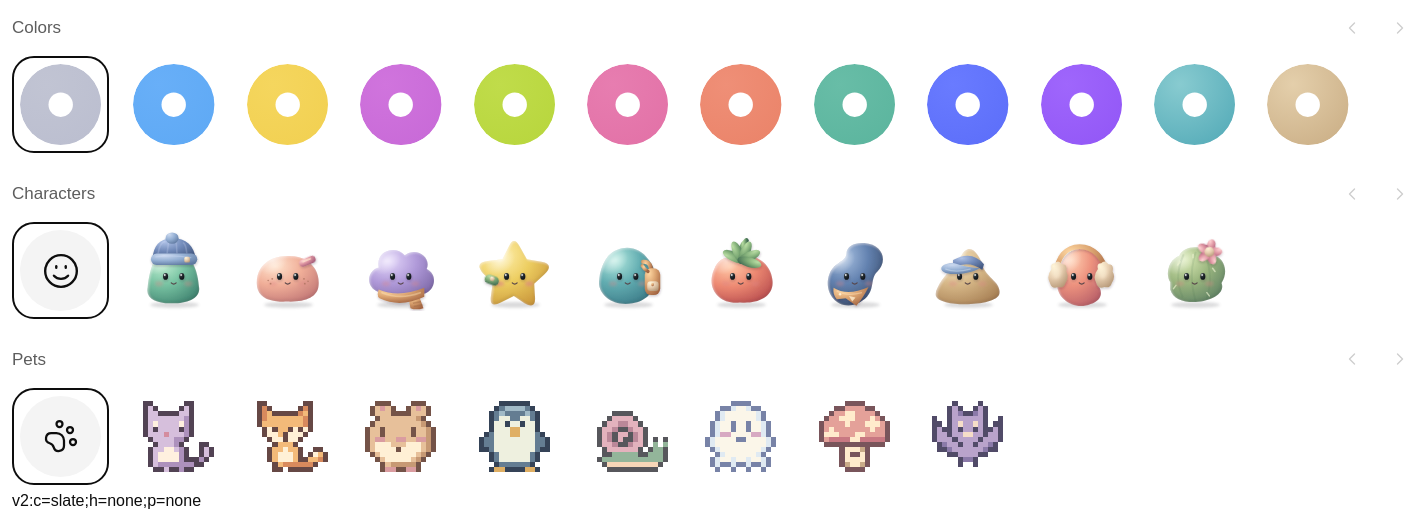
Test: provides named radio groups, one tab stop per row, and independent choices
The width and height of the screenshot is (1420, 526).
What coordinates should you click on to do the following:
click the radio button named "Color: Jade"
I would click on:
 (854, 105)
Its box is [806,56,903,154].
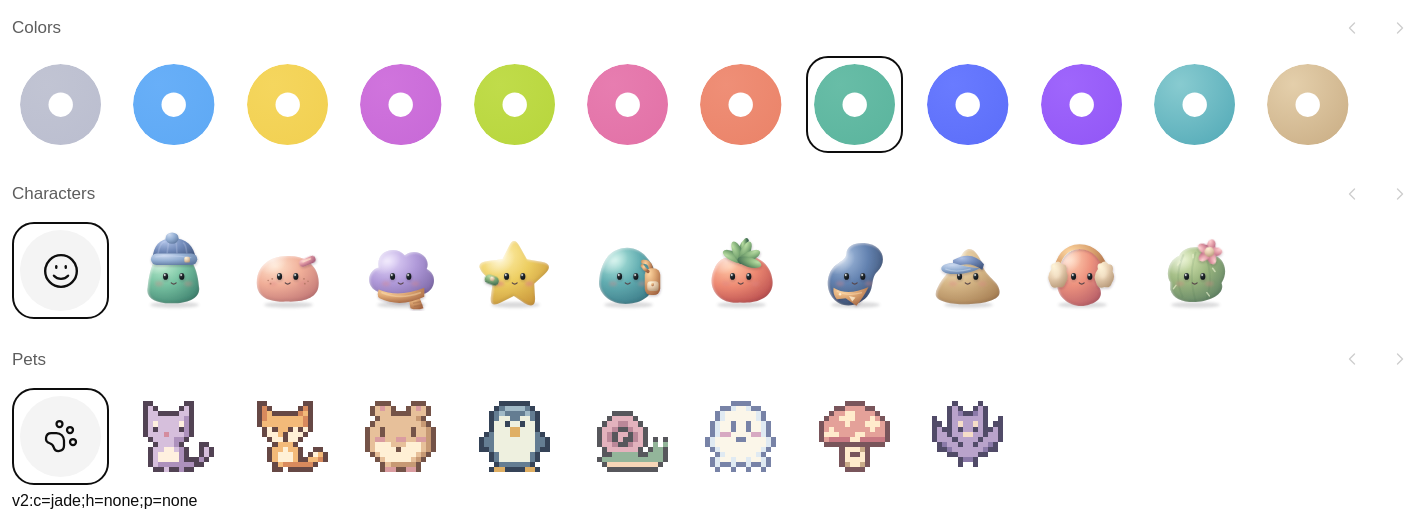
What coordinates should you click on to do the following:
click the radio button named "Character: Mint gumdrop"
I would click on:
 (174, 270)
Its box is [125,222,223,319].
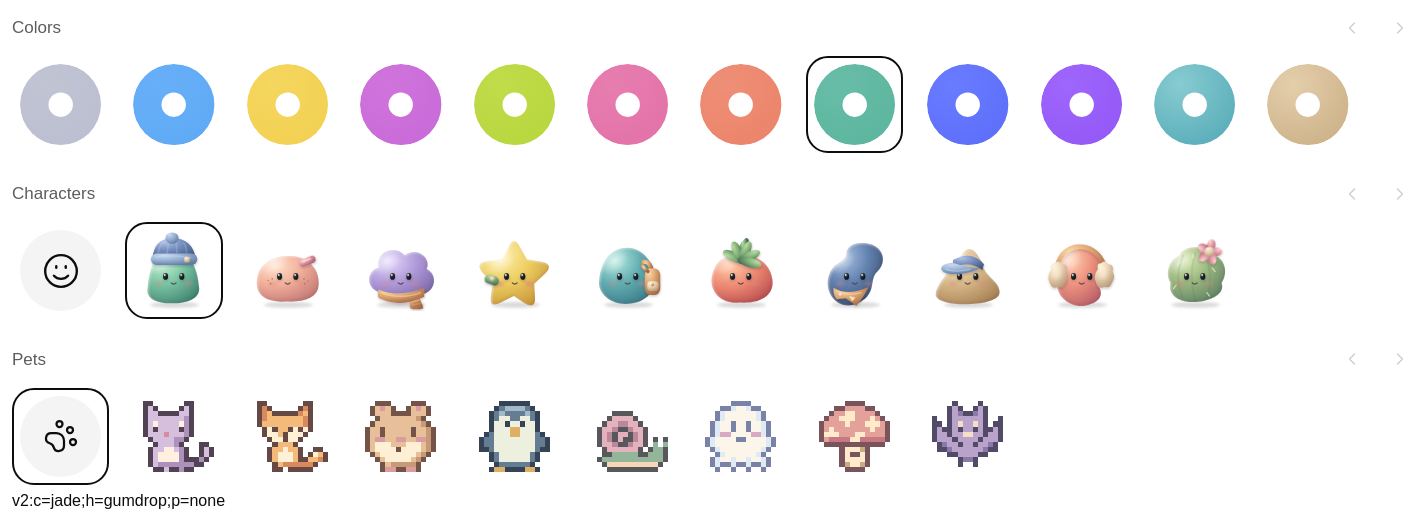
What coordinates should you click on to do the following:
click the radio button named "Pet: Fox"
I would click on:
 (288, 436)
Its box is [239,388,336,485].
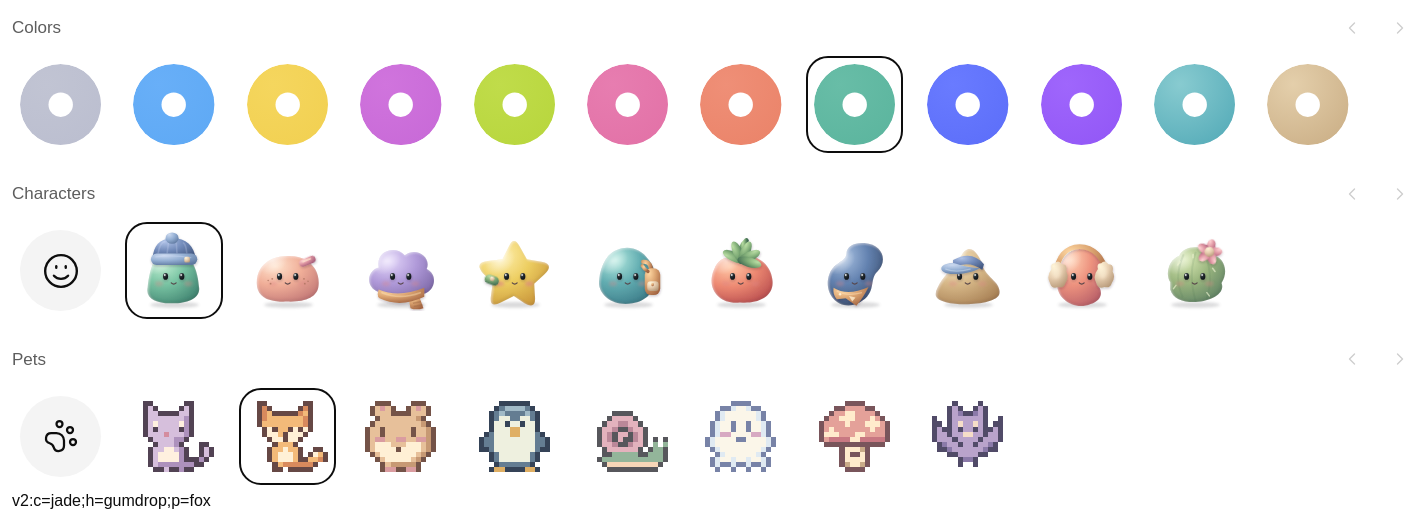
Check: the text "v2:c=jade;h=gumdrop;p=fox" is shown, box [12,492,211,509]
